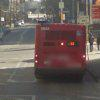Bus: (29, 17, 91, 80)
